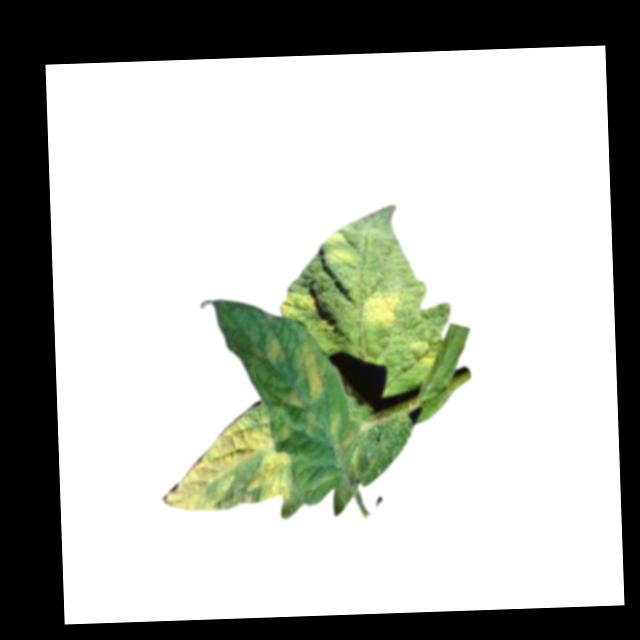Leaf_Mold: (159, 413, 293, 513), (356, 288, 402, 330), (296, 340, 324, 402), (321, 227, 354, 267), (279, 288, 314, 321), (409, 335, 441, 369), (264, 332, 285, 367)
